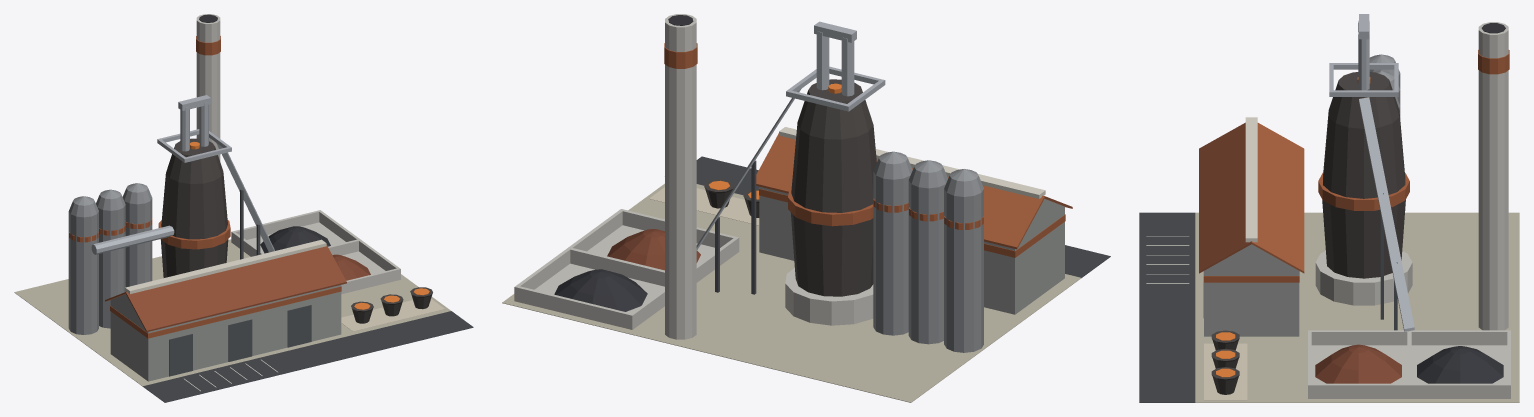
File: smelter.glb
The picture shows the model from 3 angles, left to right: view 1: azimuth 30°, elevation 25°; view 2: azimuth 150°, elevation 25°; view 3: azimuth 270°, elevation 25°; orthographic projection. The views are drawn at different scales.
Parts seen in each view (by area): view 1: smelter; view 2: smelter; view 3: smelter.
Part boxes in pixels (x1=…): smelter: x1=14, y1=14, x2=473, y2=402; smelter: x1=502, y1=14, x2=1110, y2=402; smelter: x1=1139, y1=14, x2=1519, y2=402.
Bounding box in the file's own units: 52 × 38.06 × 44.
